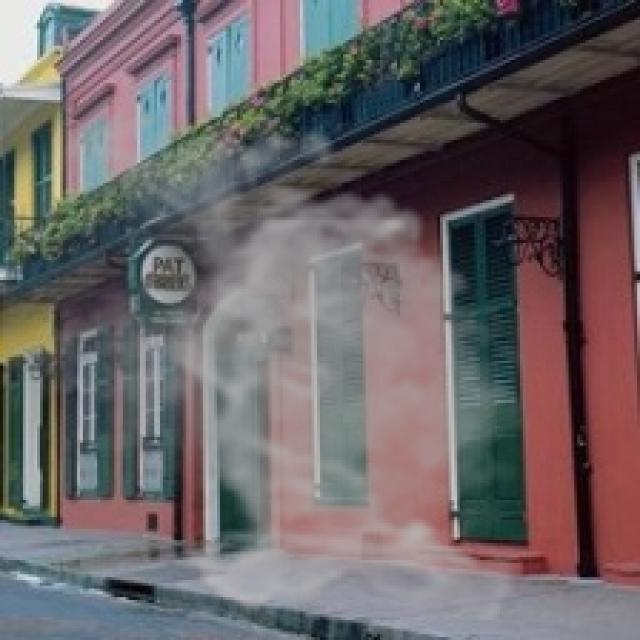Smoke: (3, 94, 543, 620)
